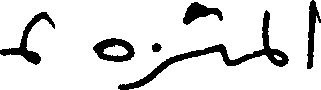6: (0, 9, 49, 64)
ا: (304, 0, 319, 70)
ت: (209, 6, 226, 67)
ز: (133, 40, 173, 87)
ل: (259, 7, 272, 56)
م: (263, 44, 290, 70)
ه: (92, 35, 133, 67)
